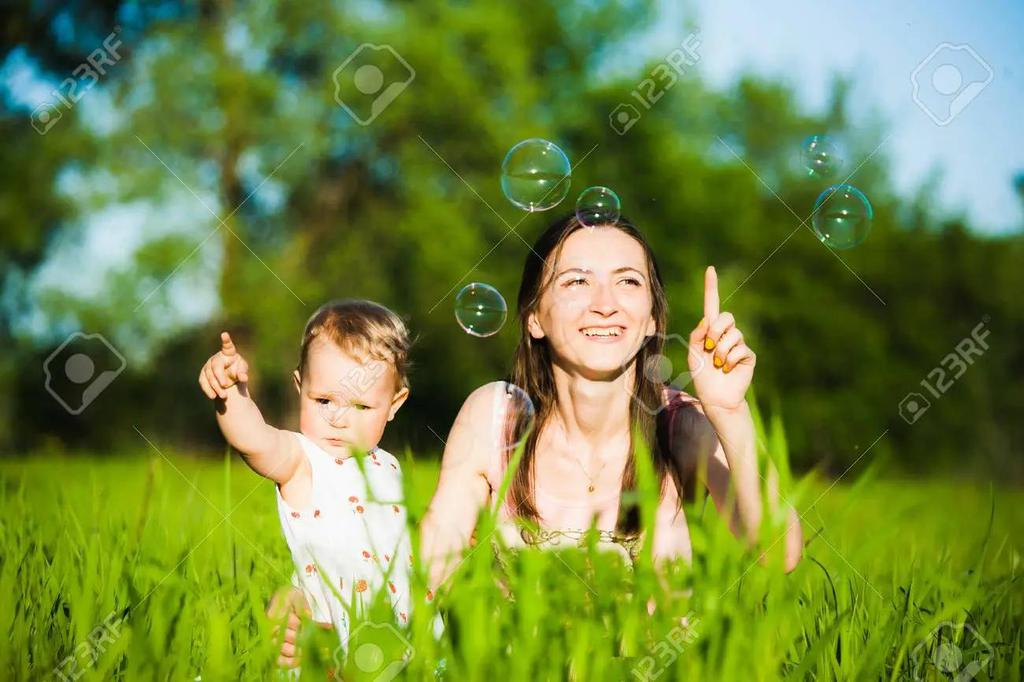child: (197, 283, 456, 673)
